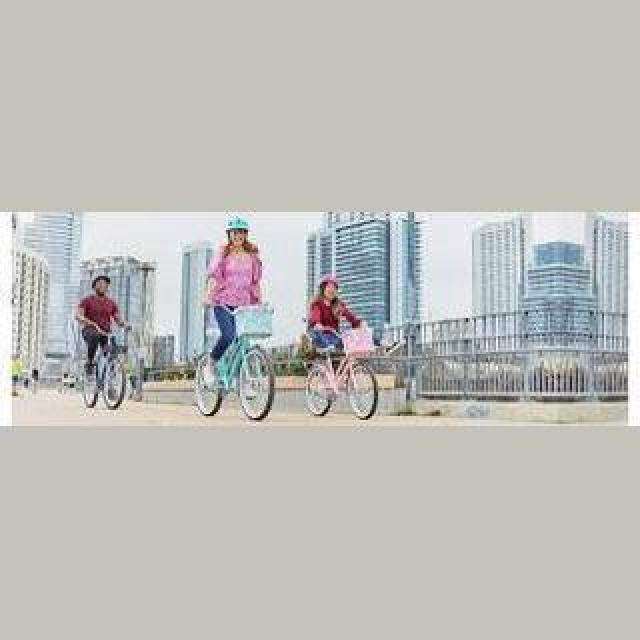MC-Bike: (198, 212, 266, 400), (302, 272, 376, 396), (74, 274, 126, 388)
Person: (196, 305, 274, 421), (303, 327, 379, 423), (80, 327, 132, 409)
